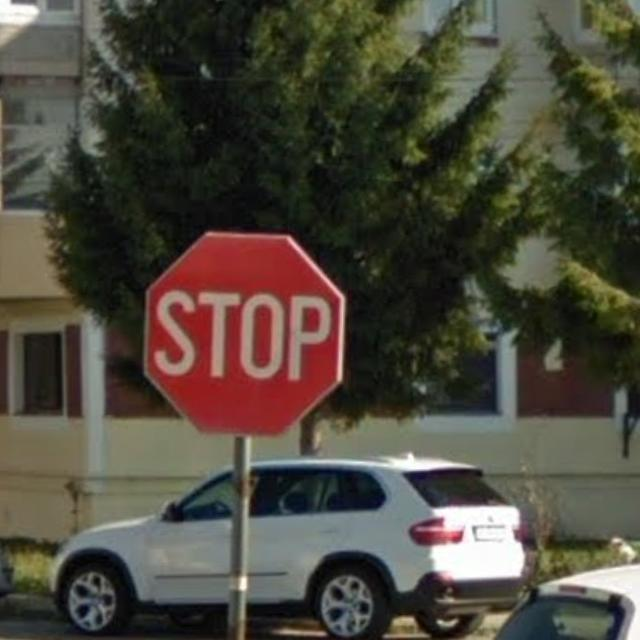prio_stop: (142, 233, 342, 436)
